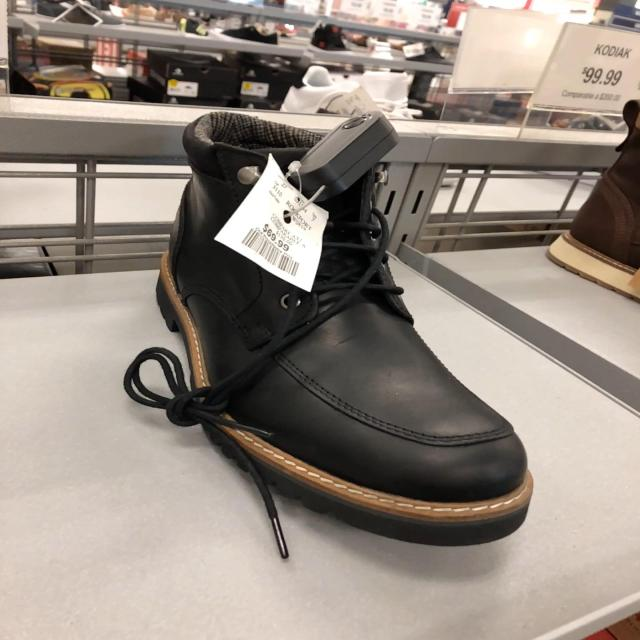shoe: (146, 102, 534, 528)
